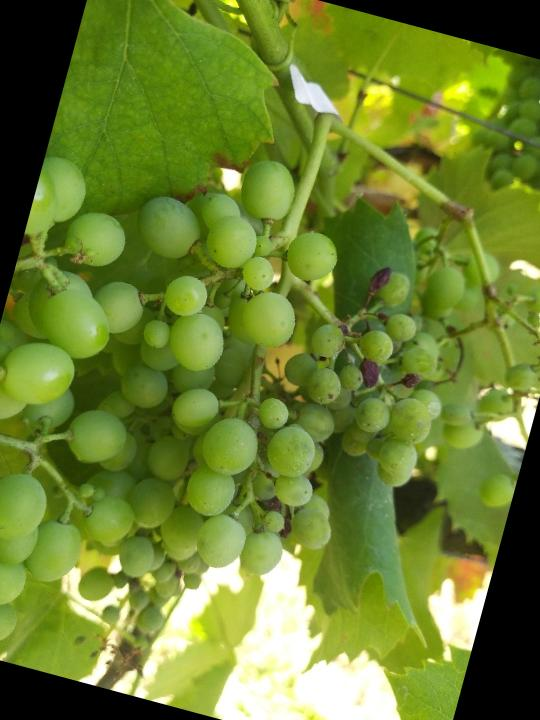grape: (25, 122, 501, 657)
